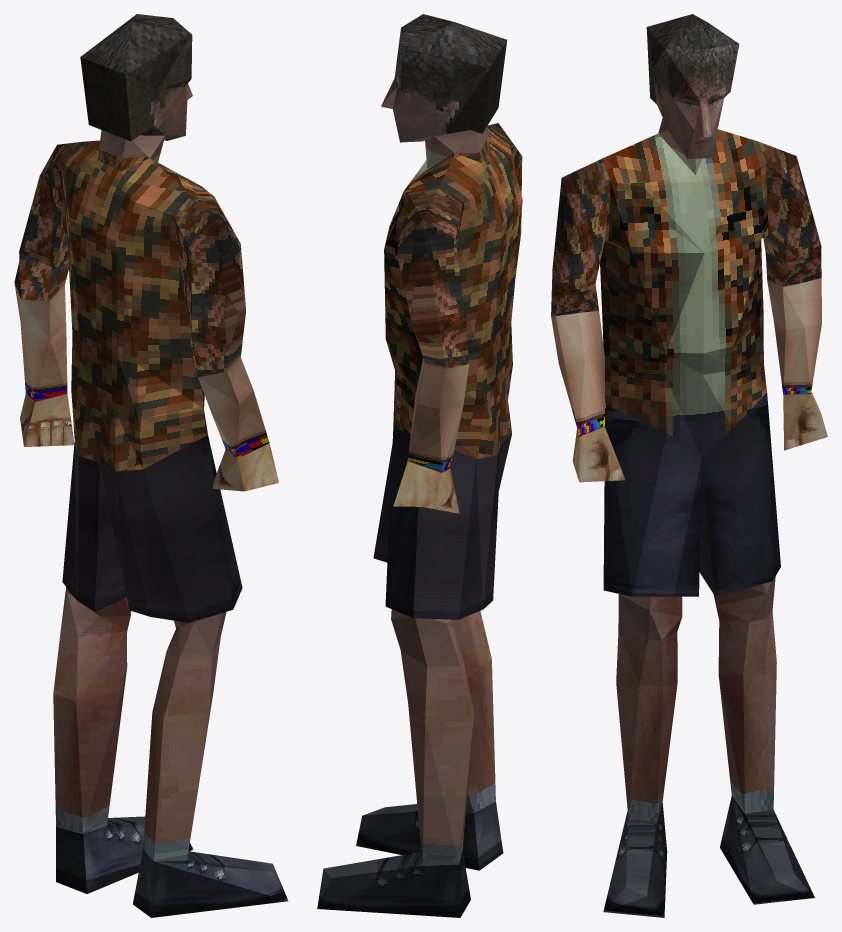
File: bunker1_boris.glb
3 views of the same model, side by side, from view 1: azimuth 30°, elevation 25°; view 2: azimuth 150°, elevation 25°; view 3: azimuth 270°, elevation 25° (orthographic). The views are drawn at different scales.
Visible parts, largest first — view 1: Object; view 2: Object; view 3: Object.
Part boxes in pixels (box(x1,y1,x2,y2)): Object: box(14, 14, 288, 917); Object: box(317, 14, 522, 917); Object: box(551, 14, 827, 917).
Size of the model in its own units: 0.4281 by 1.99 by 0.5876.
Materials: 90 (90 with a texture image).
